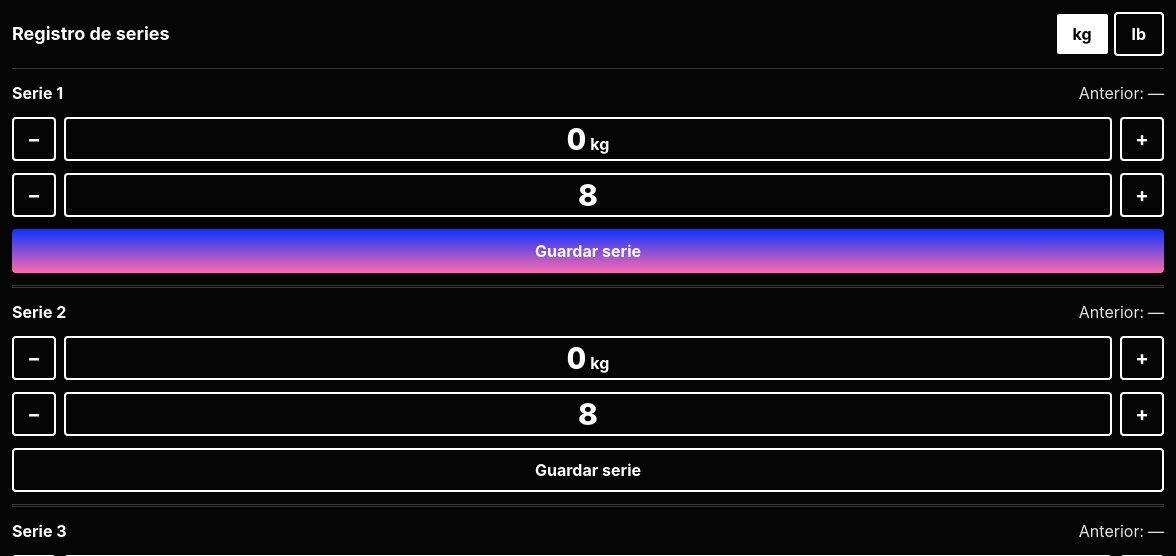
it: LoggingSection — 14 ciclorama: amanecer y fila activa (R15, R16, R17) › una fila en error conserva el filo (sigue siendo la activa)
expect the heading "Serie 1" is shown: met, box 12,81 -> 63,105
Click the 1st button "Guardar serie" at (588, 251), box 12,229 -> 1164,273
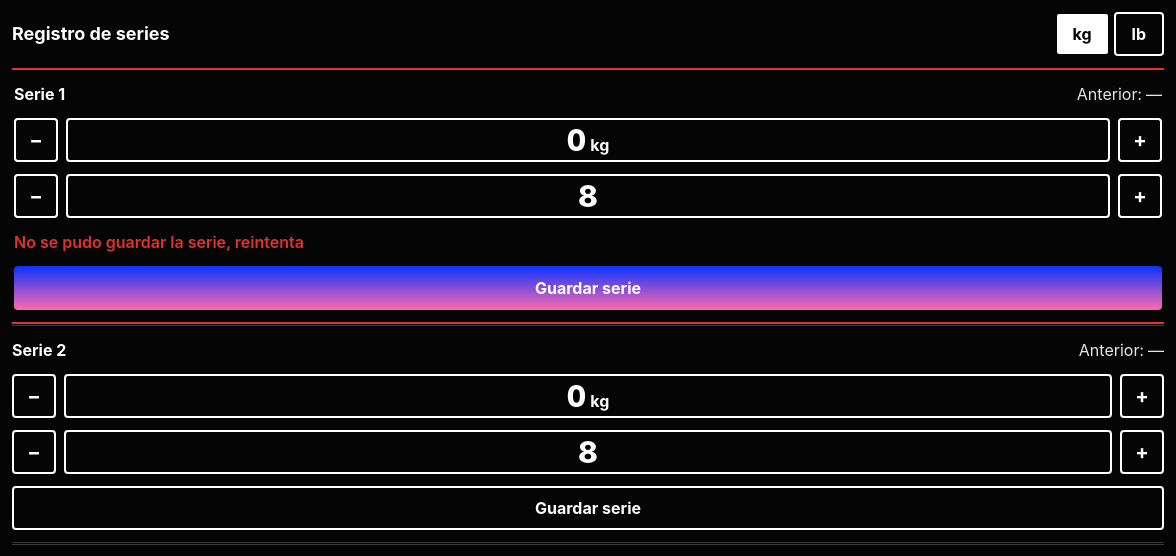
expect the message "No se pudo guardar la serie, reintenta" is shown: met, box 14,232 -> 304,252
